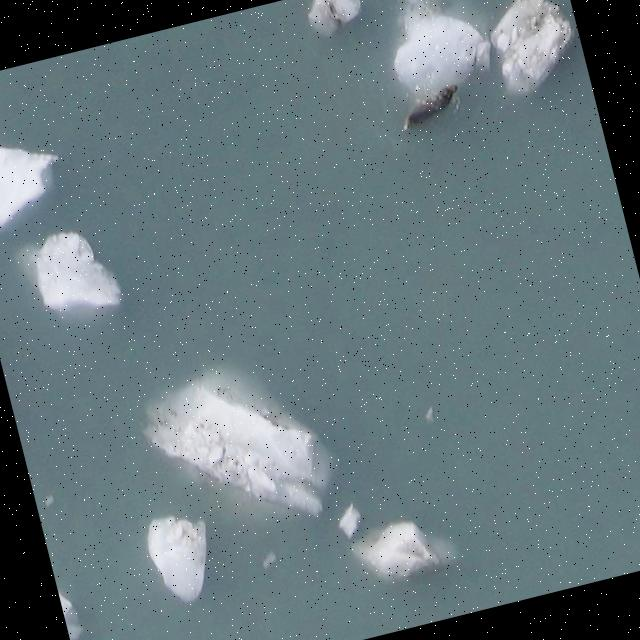seal: (396, 79, 462, 131)
